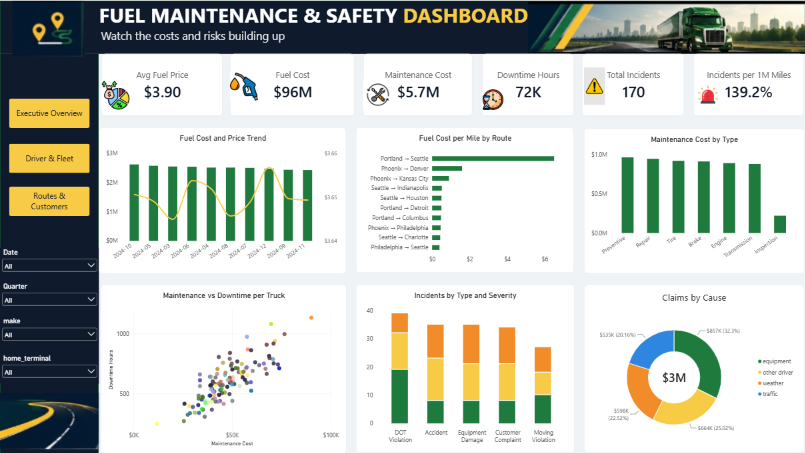

The page's visual inventory and layout, read from the dashboard file:
{"tool":"powerbi","page":{"name":"Fuel, Maintenance & Safety","canvas":[1920,1080],"ordinal":3},"visuals":[{"type":"shape","box":[0,0,235.2,1080.9],"z":0},{"type":"shape","box":[0,0,1920.7,126.5],"z":1000},{"type":"textbox","box":[235.2,0,1686.5,127.6],"z":2000},{"type":"slicer","fields":{"Values":["Date.Date"]},"box":[0,589.3,236.2,81.1],"z":3000},{"type":"slicer","fields":{"Values":["Date.Quarter"]},"box":[0,670.4,236.2,83.5],"z":4000},{"type":"slicer","fields":{"Values":["Trucks.make"]},"box":[0,753.9,236.2,88.3],"z":5000},{"type":"slicer","fields":{"Values":["Trucks.home_terminal"]},"box":[0,842.2,236.2,71.6],"z":6000},{"type":"cardVisual","fields":{"Data":["_Measures.Fuel Cost"]},"box":[548.8,126.5,298.2,150.3],"z":7000},{"type":"cardVisual","fields":{"Data":["_Measures.Avg Fuel Price"]},"box":[241,126.5,291.1,150.3],"z":8000},{"type":"cardVisual","fields":{"Data":["_Measures.Maintenance Cost"]},"box":[867.3,127.6,262.7,150.1],"z":9000},{"type":"cardVisual","fields":{"Data":["_Measures.Downtime Hours"]},"box":[1149.5,127.6,220.2,150.1],"z":10000},{"type":"cardVisual","fields":{"Data":["_Measures.Total Incidents"]},"box":[1389.2,127.6,245.2,150.1],"z":11000},{"type":"cardVisual","fields":{"Data":["_Measures.Incidents per 1M Miles"]},"box":[1653.9,127.6,265.2,150.1],"z":12000},{"type":"lineClusteredColumnComboChart","title":"Fuel Cost and Price Trend","fields":{"Category":["Date.Year-Month"],"Y":["_Measures.Fuel Cost"],"Y2":["_Measures.Avg Fuel Price"]},"box":[236.2,303,589.3,348.3],"z":13000},{"type":"barChart","title":"Fuel Cost per Mile by Route","fields":{"Category":["Routes.route_name"],"Y":["_Measures.Fuel Cost per Mile"]},"box":[849.4,303,520.1,346],"z":14000},{"type":"columnChart","title":"Maintenance Cost by Type","fields":{"Category":["Maintenance.maintenance_type"],"Y":["_Measures.Maintenance Cost"]},"box":[1393.7,305.3,525.5,345.3],"z":15000},{"type":"scatterChart","title":"Maintenance vs Downtime per Truck","fields":{"Category":["Trucks.truck_label"],"X":["_Measures.Maintenance Cost"],"Y":["_Measures.Downtime Hours"]},"box":[240.2,677.1,585.5,402.9],"z":16000},{"type":"columnChart","title":"Incidents by Type and Severity","fields":{"Category":["Safety_Incidents.incident_type"],"Series":["Safety_Incidents.severity"],"Y":["_Measures.Total Incidents"]},"box":[849.5,678.1,520.5,400.4],"z":17000},{"type":"donutChart","title":"Claims by Cause","fields":{"Category":["Safety_Incidents.cause"],"Y":["_Measures.Total Claims"]},"box":[1393.7,678.1,525.5,400.4],"z":18000},{"type":"actionButton","box":[21.5,233.8,192.7,70.1],"z":19000},{"type":"actionButton","title":"Driver & Fleet","box":[21.5,341.2,192.7,70.1],"z":20000},{"type":"actionButton","box":[21.5,443.8,192.7,70.1],"z":21000},{"type":"image","box":[0,925.7,236.2,155.1],"z":22000},{"type":"image","box":[0,0,231.4,133.6],"z":23000},{"type":"image","box":[1259.8,0,660.9,126.5],"z":24000},{"type":"textbox","box":[241,64.4,1018.8,62],"z":25000},{"type":"image","box":[548.8,133.6,66.8,143.2],"z":25001},{"type":"image","box":[866.1,178.9,71.6,90.7],"z":25002},{"type":"image","box":[1150,202.8,52.5,66.8],"z":25003},{"type":"image","box":[1393.4,136,50.1,136],"z":25004},{"type":"image","box":[1655.8,178.9,66.8,90.7],"z":25005},{"type":"image","box":[241,178.9,69.2,93.1],"z":25006}]}

Visuals, with their boxes in screenshot pixels (x1, y1, x2, y2), scaled from the page's 1920x1080 canvas onto the 805x453 screenshot:
shape: l=0, t=0, r=99, b=452
shape: l=0, t=0, r=804, b=53
textbox: l=99, t=0, r=804, b=54
slicer - Date.Date: l=0, t=247, r=99, b=281
slicer - Date.Quarter: l=0, t=281, r=99, b=316
slicer - Trucks.make: l=0, t=316, r=99, b=353
slicer - Trucks.home_terminal: l=0, t=353, r=99, b=383
cardVisual - _Measures.Fuel Cost: l=230, t=53, r=355, b=116
cardVisual - _Measures.Avg Fuel Price: l=101, t=53, r=223, b=116
cardVisual - _Measures.Maintenance Cost: l=364, t=54, r=474, b=116
cardVisual - _Measures.Downtime Hours: l=482, t=54, r=574, b=116
cardVisual - _Measures.Total Incidents: l=582, t=54, r=685, b=116
cardVisual - _Measures.Incidents per 1M Miles: l=693, t=54, r=804, b=116
"Fuel Cost and Price Trend" lineClusteredColumnComboChart: l=99, t=127, r=346, b=273
"Fuel Cost per Mile by Route" barChart: l=356, t=127, r=574, b=272
"Maintenance Cost by Type" columnChart: l=584, t=128, r=804, b=273
"Maintenance vs Downtime per Truck" scatterChart: l=101, t=284, r=346, b=452
"Incidents by Type and Severity" columnChart: l=356, t=284, r=574, b=452
"Claims by Cause" donutChart: l=584, t=284, r=804, b=452
actionButton: l=9, t=98, r=90, b=127
"Driver & Fleet" actionButton: l=9, t=143, r=90, b=173
actionButton: l=9, t=186, r=90, b=216
image: l=0, t=388, r=99, b=452
image: l=0, t=0, r=97, b=56
image: l=528, t=0, r=804, b=53
textbox: l=101, t=27, r=528, b=53
image: l=230, t=56, r=258, b=116
image: l=363, t=75, r=393, b=113
image: l=482, t=85, r=504, b=113
image: l=584, t=57, r=605, b=114
image: l=694, t=75, r=722, b=113
image: l=101, t=75, r=130, b=114
